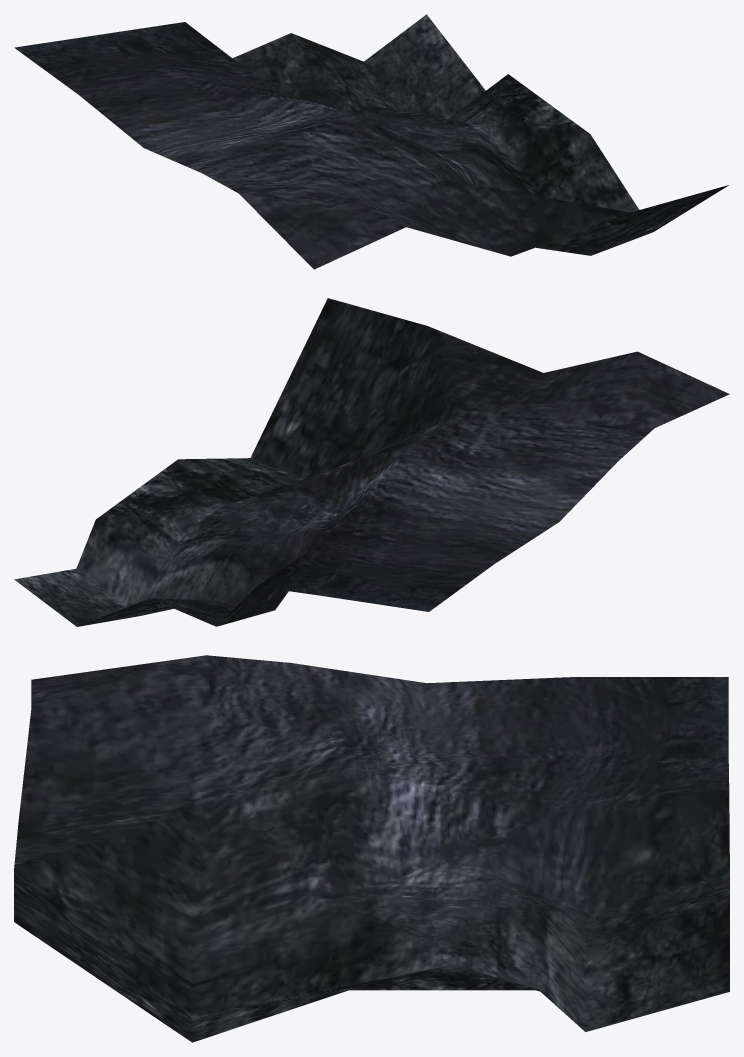
The picture shows the model from 3 angles, top to bottom: view 1: azimuth 30°, elevation 25°; view 2: azimuth 150°, elevation 25°; view 3: azimuth 270°, elevation 25°; orthographic projection. The views are drawn at different scales.
Visible parts, largest first — view 1: model_Object34; view 2: model_Object34; view 3: model_Object34.
Boxes of the visible parts, left/top/right/bottom form: model_Object34: left=14, top=14, right=728, bottom=269; model_Object34: left=14, top=298, right=729, bottom=626; model_Object34: left=14, top=655, right=729, bottom=1042.
Bounding box in the file's own units: 3.59 × 1.27 × 4.64.
Materials: 1 (1 with a texture image).
